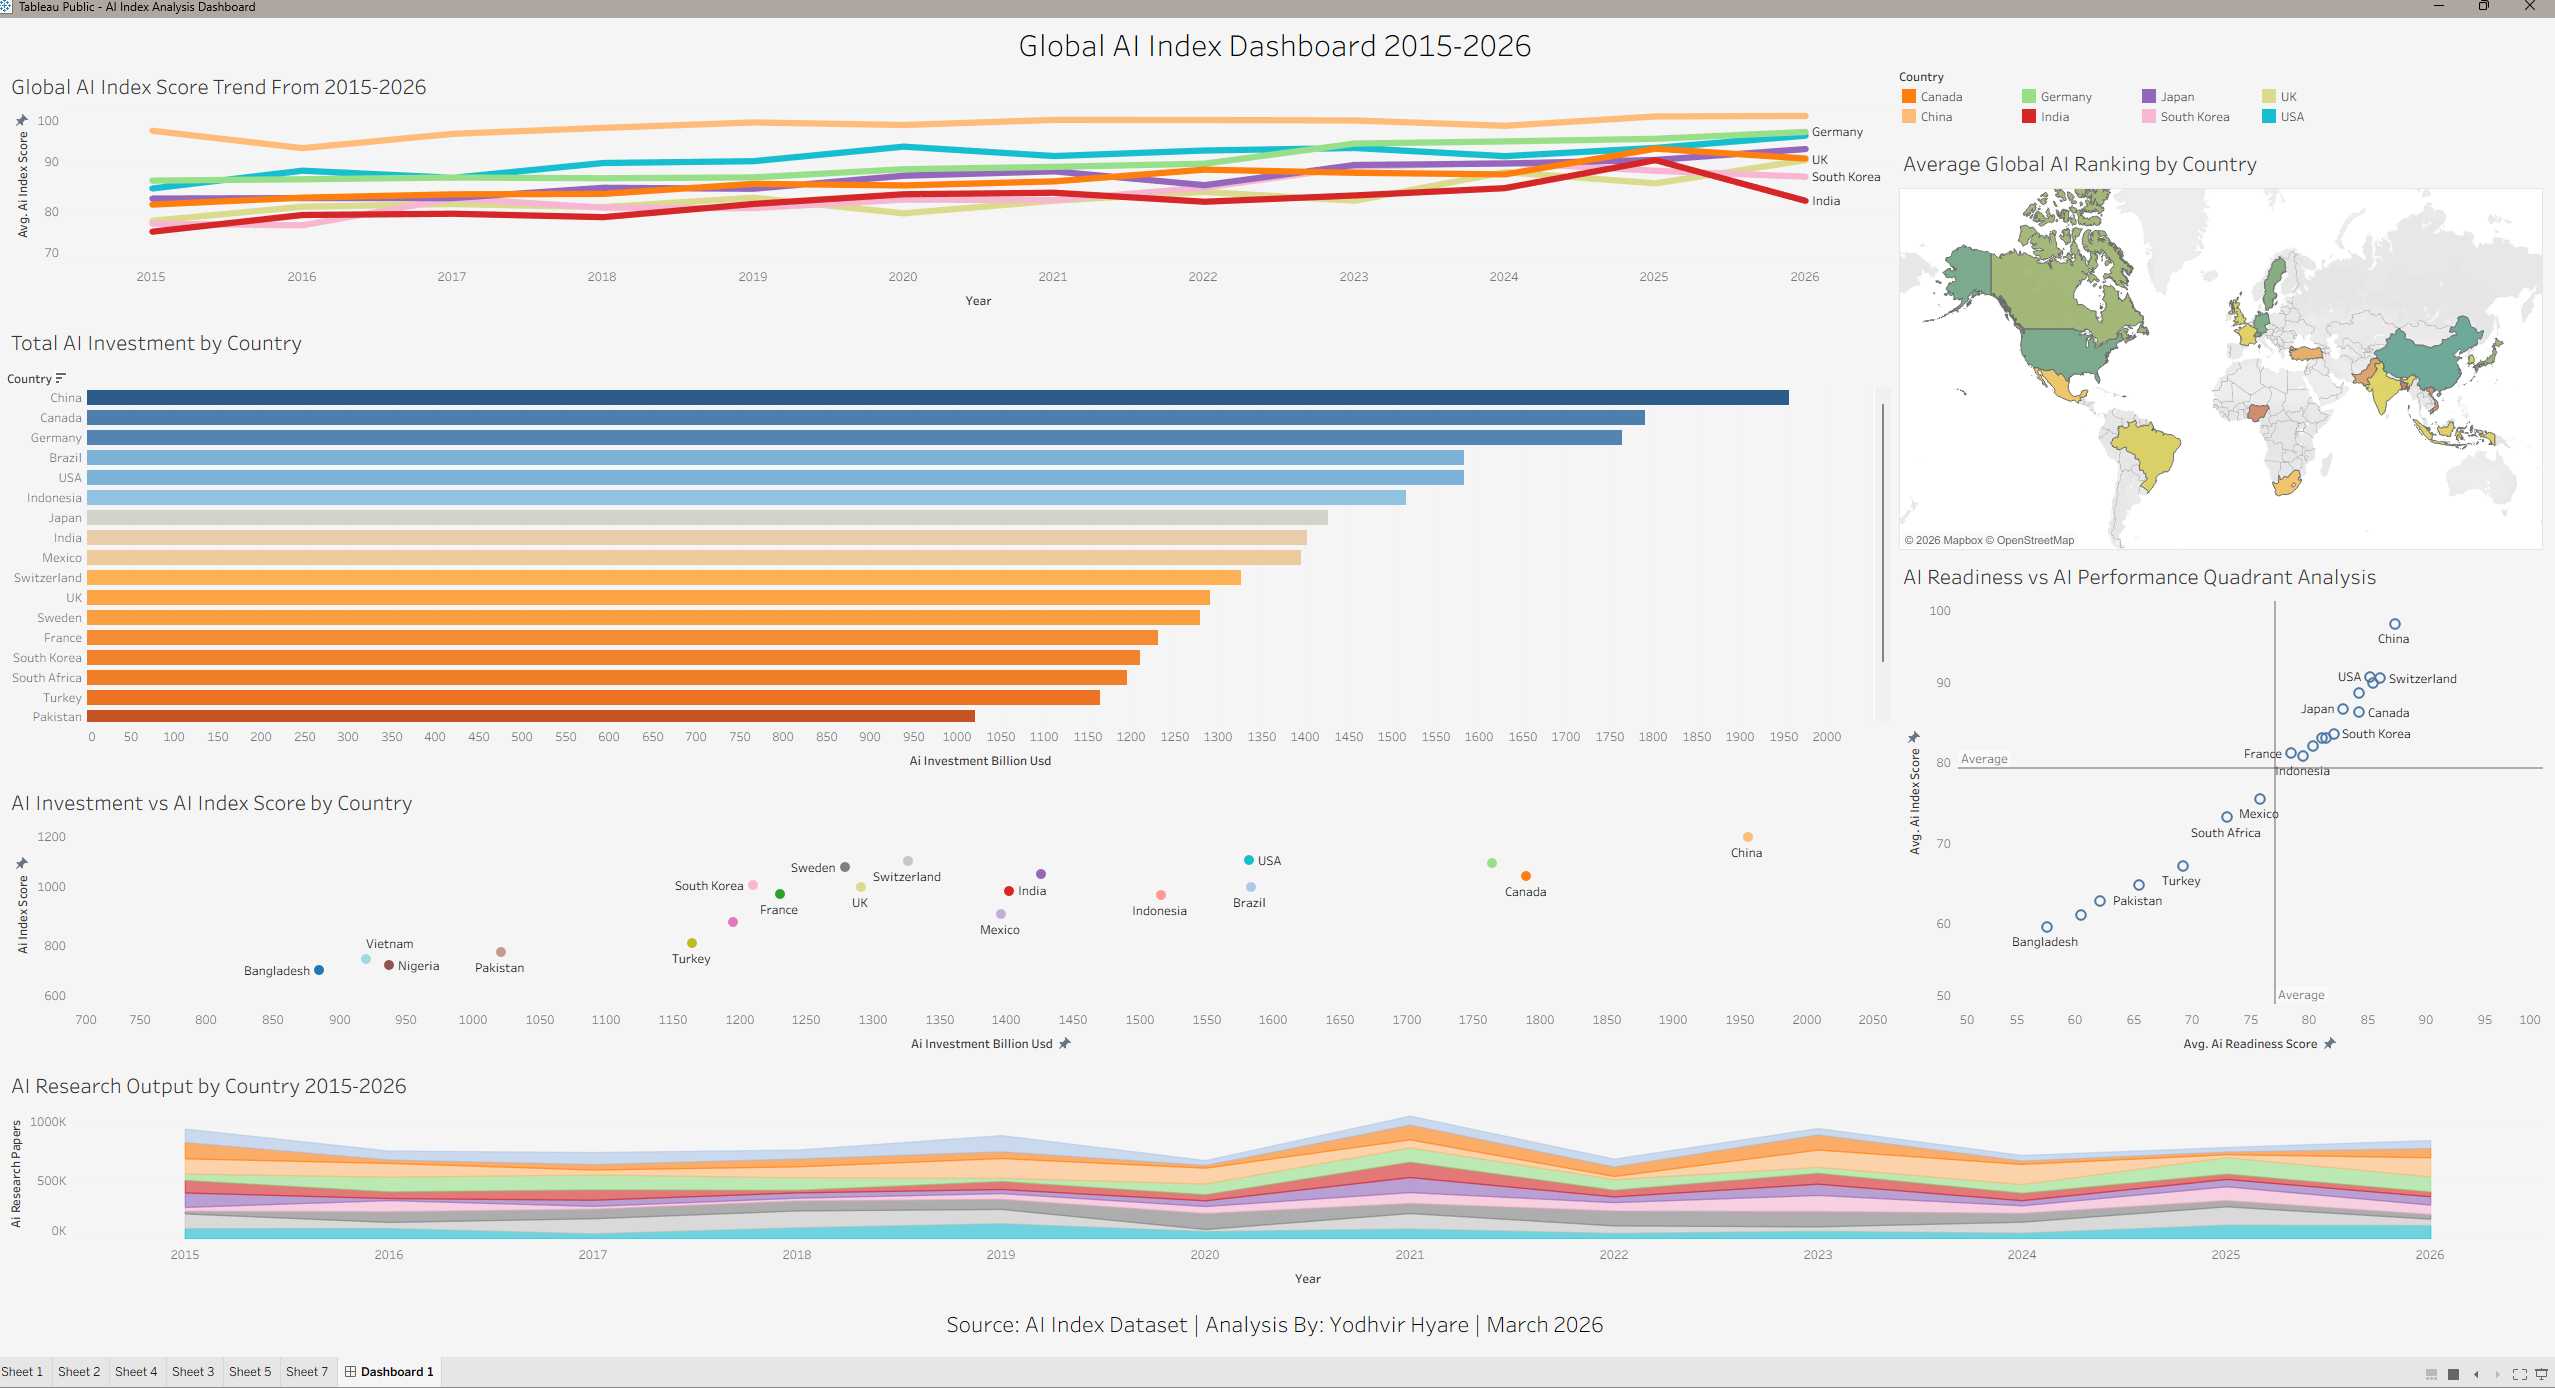

The page's visual inventory and layout, read from the dashboard file:
{"tool":"tableau","page":{"name":"Dashboard 1","canvas":[1000,1000],"units":"permille","ordinal":0},"visuals":[{"type":"text","box":[3.4,6.4,993.2,28.6]},{"type":"worksheet","title":"Sheet 1","mark":"Automatic","rows":["ai_index_score"],"cols":["year"],"box":[3.4,35,715.6,190.7]},{"type":"legend","title":"Sheet 1","param":"[federated.1h8c2ns0ttepgx11zoyvo05om7xy].[none:country:nk]","box":[719,35,277.6,61.3]},{"type":"worksheet","title":"Sheet 4","mark":"Automatic","box":[719,96.3,277.6,328.8]},{"type":"worksheet","title":"Sheet 2","mark":"Automatic","rows":["country"],"cols":["ai_investment_billion_usd"],"box":[3.4,225.7,715.6,343.5]},{"type":"worksheet","title":"Sheet 5","mark":"Automatic","rows":["ai_index_score"],"cols":["ai_readiness_score"],"box":[719,425.1,277.6,355.1]},{"type":"worksheet","title":"Sheet 7","mark":"Circle","rows":["ai_index_score"],"cols":["ai_investment_billion_usd"],"box":[3.4,569.2,715.6,211]},{"type":"worksheet","title":"Sheet 3","mark":"Area","rows":["ai_research_papers"],"cols":["year"],"box":[3.4,780.2,993.2,175.2]},{"type":"text","box":[3.4,955.4,993.2,38.3]}]}

Visuals, with their boxes on the dashboard's canvas, which has no fixed pixel size, in thousandths of its width and height (x1, y1, x2, y2). These are canvas units, not pixel positions in the 2555x1388 screenshot, which may show the page scaled, cropped or inside an application window:
text: x1=3, y1=6, x2=997, y2=35
"Sheet 1" worksheet: x1=3, y1=35, x2=719, y2=226
"Sheet 1" legend: x1=719, y1=35, x2=997, y2=96
"Sheet 4" worksheet: x1=719, y1=96, x2=997, y2=425
"Sheet 2" worksheet: x1=3, y1=226, x2=719, y2=569
"Sheet 5" worksheet: x1=719, y1=425, x2=997, y2=780
"Sheet 7" worksheet (Circle marks): x1=3, y1=569, x2=719, y2=780
"Sheet 3" worksheet (Area marks): x1=3, y1=780, x2=997, y2=955
text: x1=3, y1=955, x2=997, y2=994
